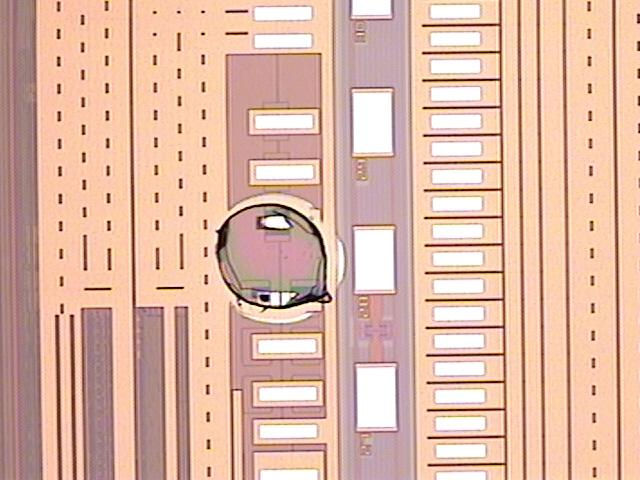BLOCK ETCH: (207, 187, 351, 331)
